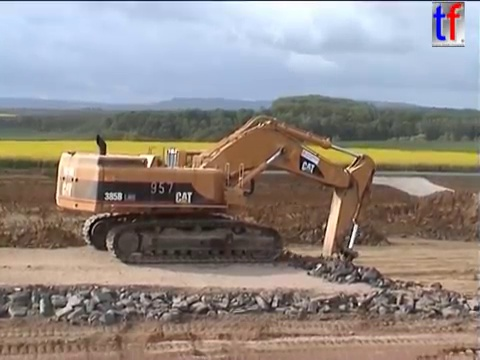excavator: (52, 112, 378, 305)
